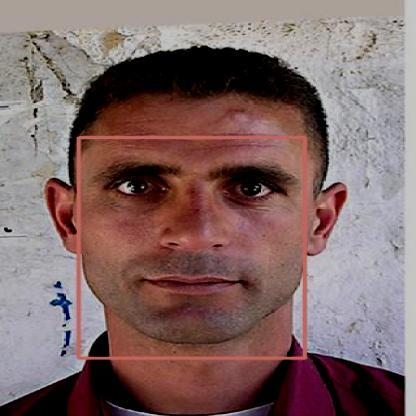without_mask: (78, 137, 304, 358)
